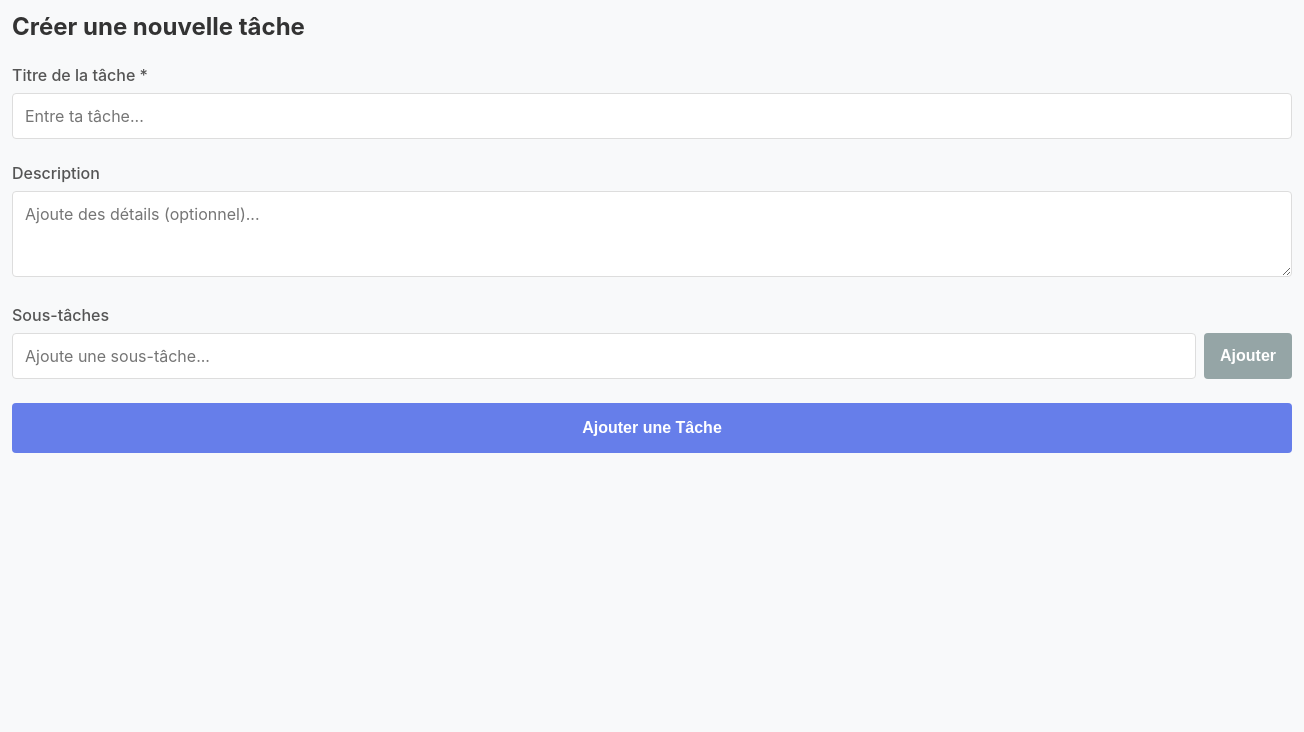
Test: TaskForm Component › Subtasks Management › should add multiple subtasks
Type "Subtask 1" into the field with id "new-subtask". click: (604, 356)
box: top-left (12, 333), bottom-right (1196, 379)
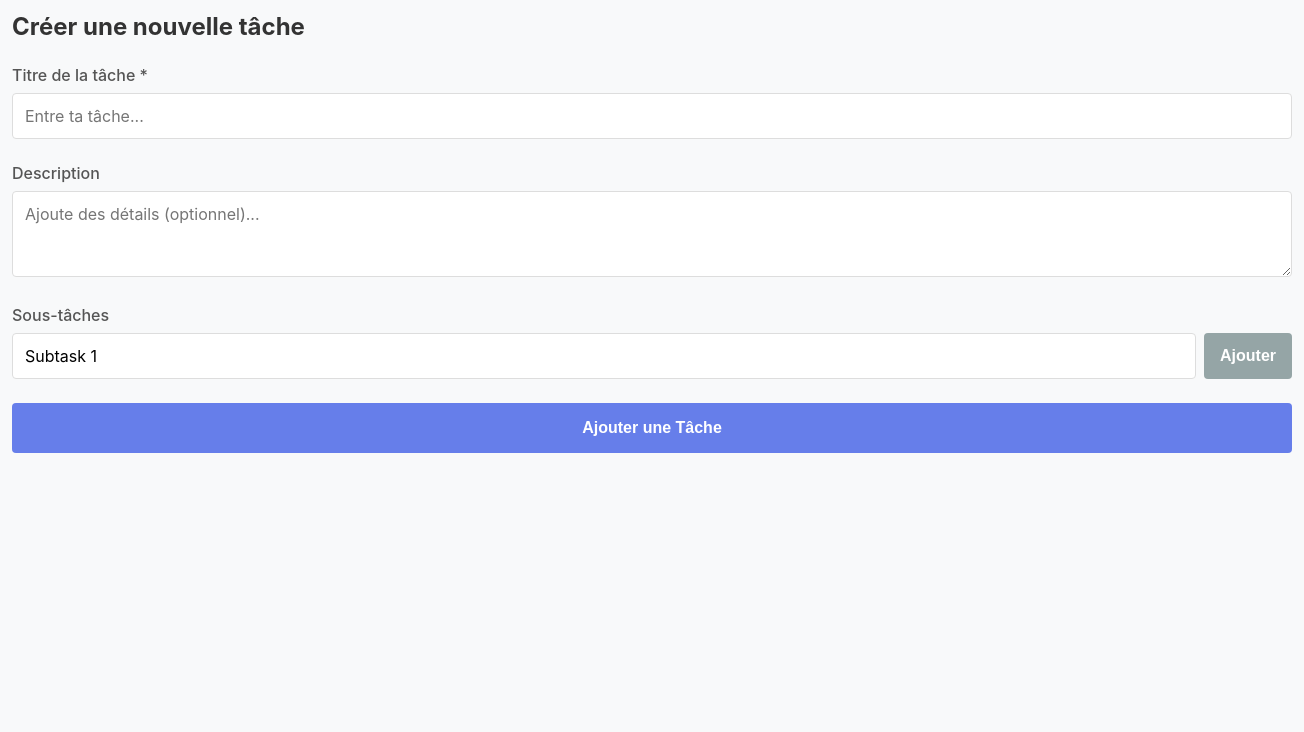
Click the button "Ajouter". click: (1248, 356)
box: top-left (1204, 333), bottom-right (1292, 379)
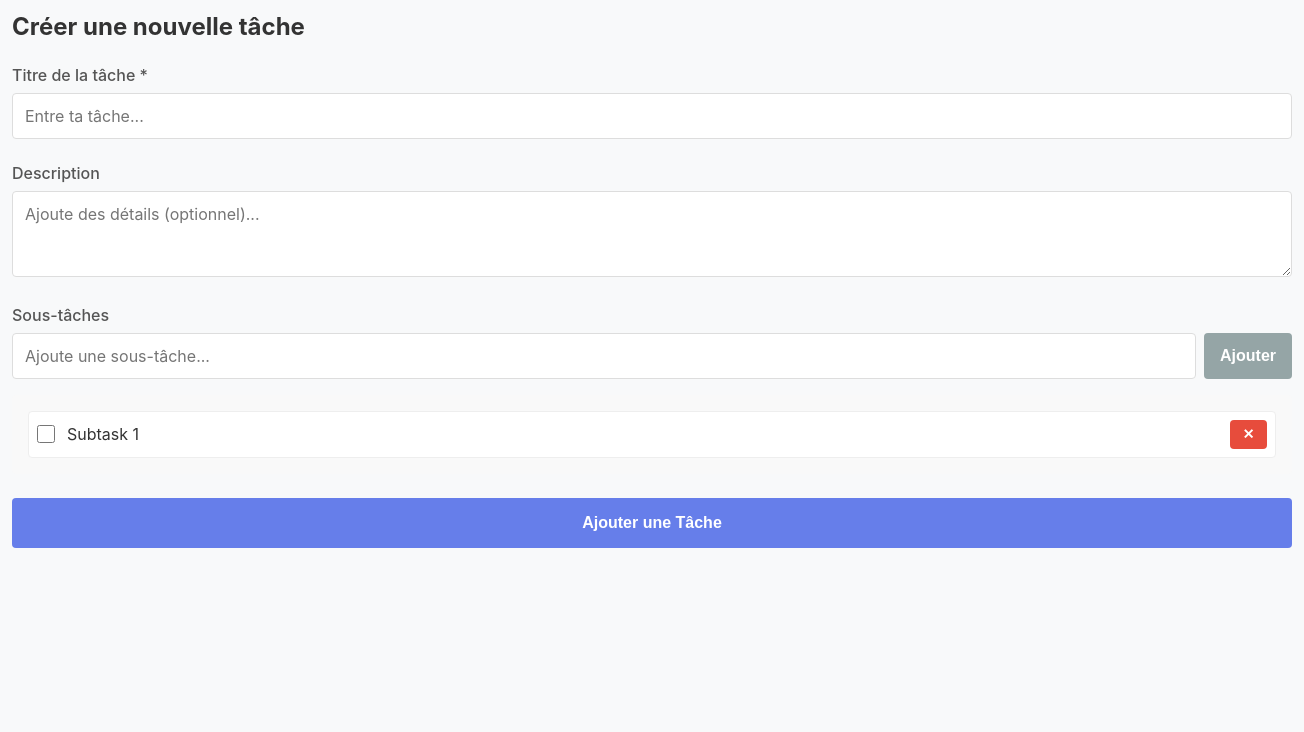
Type "Subtask 2" into the field with id "new-subtask". click: (604, 356)
box: top-left (12, 333), bottom-right (1196, 379)
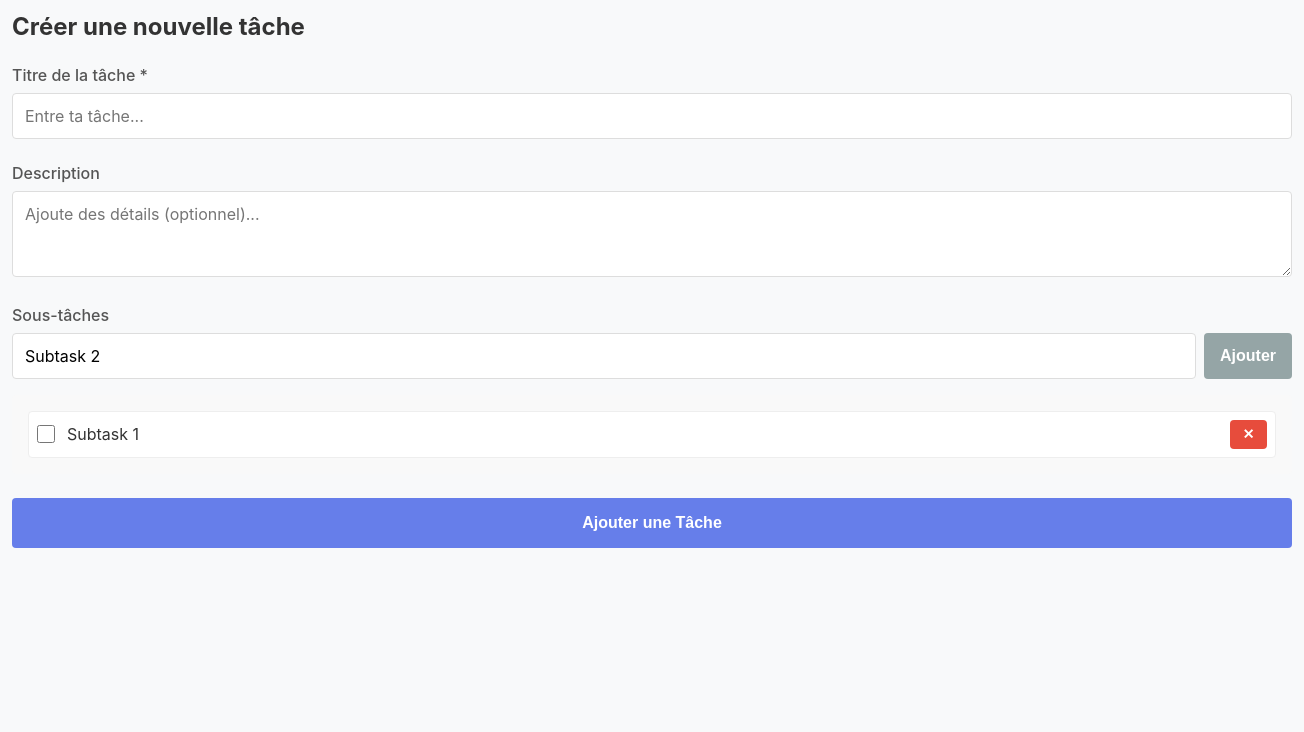
Click the button "Ajouter". click: (1248, 356)
box: top-left (1204, 333), bottom-right (1292, 379)
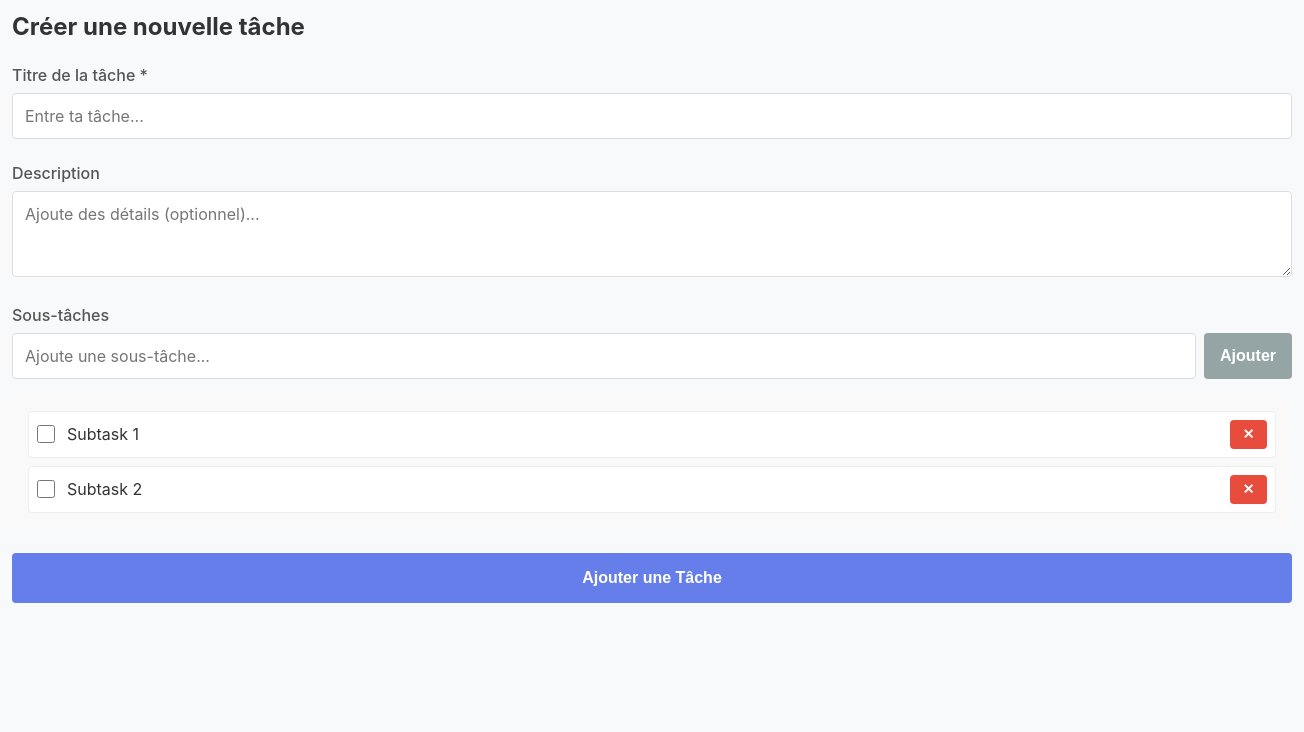
Check: the number of list items with class "subtask-item" is 2, box top-left (28, 411), bottom-right (1276, 458); top-left (28, 466), bottom-right (1276, 513)
